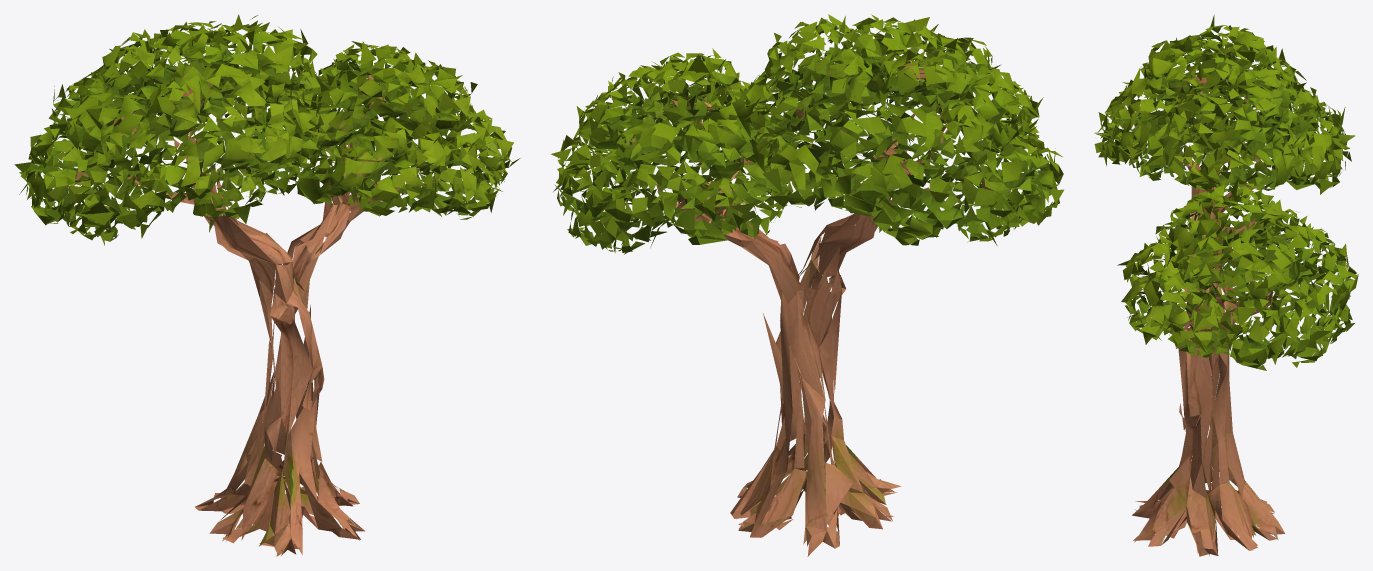
File: tree_puffy2.glb
3 views of the same model, side by side, from view 1: azimuth 30°, elevation 25°; view 2: azimuth 150°, elevation 25°; view 3: azimuth 270°, elevation 25° (orthographic). The views are drawn at different scales.
Visible parts, largest first — view 1: Mesh_0; view 2: Mesh_0; view 3: Mesh_0.
Boxes of the visible parts, left/top/right/bottom form: Mesh_0: left=14, top=14, right=520, bottom=556; Mesh_0: left=551, top=14, right=1063, bottom=556; Mesh_0: left=1094, top=14, right=1358, bottom=556.
Size of the model in its own units: 1.91 by 1.97 by 1.03.
1 material, 1 textured.
